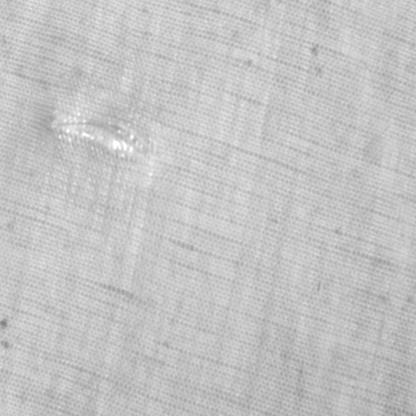hole: (48, 100, 154, 169)
